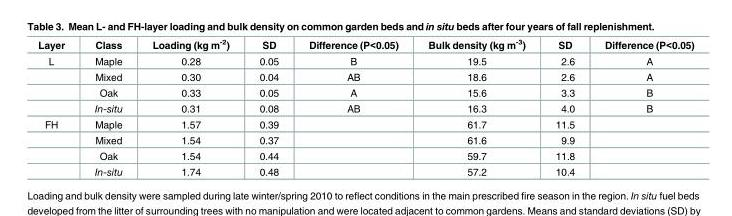table: (37, 36, 693, 177)
table column: (412, 36, 539, 177), (293, 36, 412, 177), (136, 36, 243, 177), (589, 36, 693, 177), (79, 36, 136, 177), (243, 36, 293, 177), (539, 36, 589, 177), (37, 36, 79, 177)
table column header: (37, 36, 693, 52)
table row: (37, 36, 693, 52), (37, 52, 693, 68), (37, 68, 693, 84), (37, 84, 693, 100), (37, 100, 693, 116), (37, 131, 693, 147), (37, 147, 693, 163), (37, 116, 693, 131), (37, 163, 693, 177)
table spanning cell: (37, 52, 79, 116), (37, 116, 79, 177)
